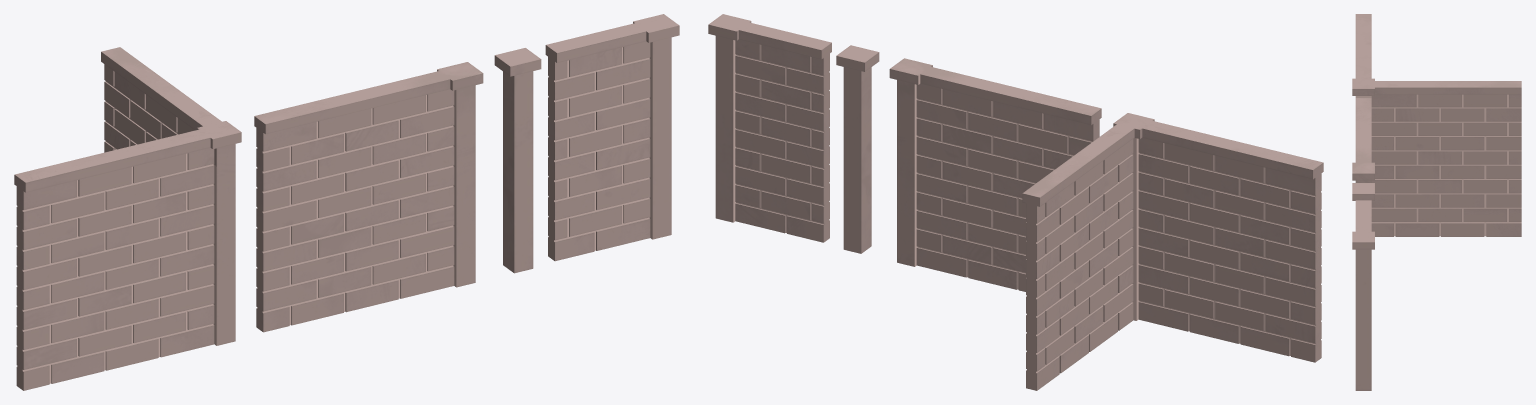
3 renders of one model, left to right at view 1: azimuth 30°, elevation 25°; view 2: azimuth 150°, elevation 25°; view 3: azimuth 270°, elevation 25°, orthographic. The views are drawn at different scales.
Visible parts, largest first — view 1: modular_wall_corner_low, modular_wall_straight_low, modular_wall_straight_small_low, modular_wall_pier_low; view 2: modular_wall_corner_low, modular_wall_straight_low, modular_wall_straight_small_low, modular_wall_pier_low; view 3: modular_wall_corner_low, modular_wall_straight_small_low, modular_wall_straight_low, modular_wall_pier_low.
Boxes of the visible parts, x1,y1,x2,y2 form: modular_wall_corner_low: [14, 47, 241, 390]; modular_wall_straight_low: [254, 62, 483, 332]; modular_wall_straight_small_low: [545, 14, 679, 261]; modular_wall_pier_low: [494, 48, 541, 273]; modular_wall_corner_low: [1022, 113, 1323, 390]; modular_wall_straight_low: [889, 58, 1101, 291]; modular_wall_straight_small_low: [708, 14, 831, 242]; modular_wall_pier_low: [836, 45, 879, 253]; modular_wall_corner_low: [1352, 14, 1521, 236]; modular_wall_straight_small_low: [1352, 200, 1374, 390]; modular_wall_straight_low: [1352, 98, 1374, 182]; modular_wall_pier_low: [1352, 183, 1374, 200].
Bounding box in the file's own units: 2 × 0.6152 × 0.6261.
1 material, 1 textured.
